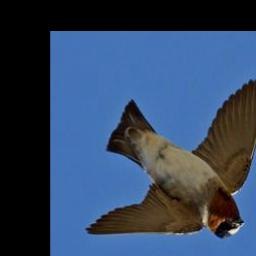Swallow: (83, 77, 256, 239)
